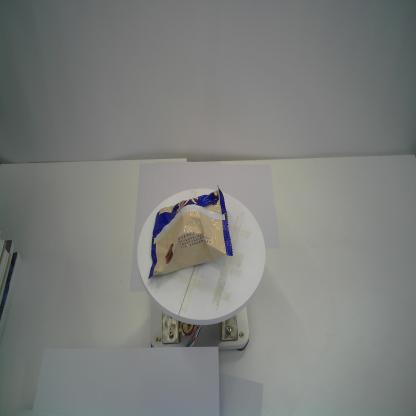Dessert: (147, 183, 234, 282)
